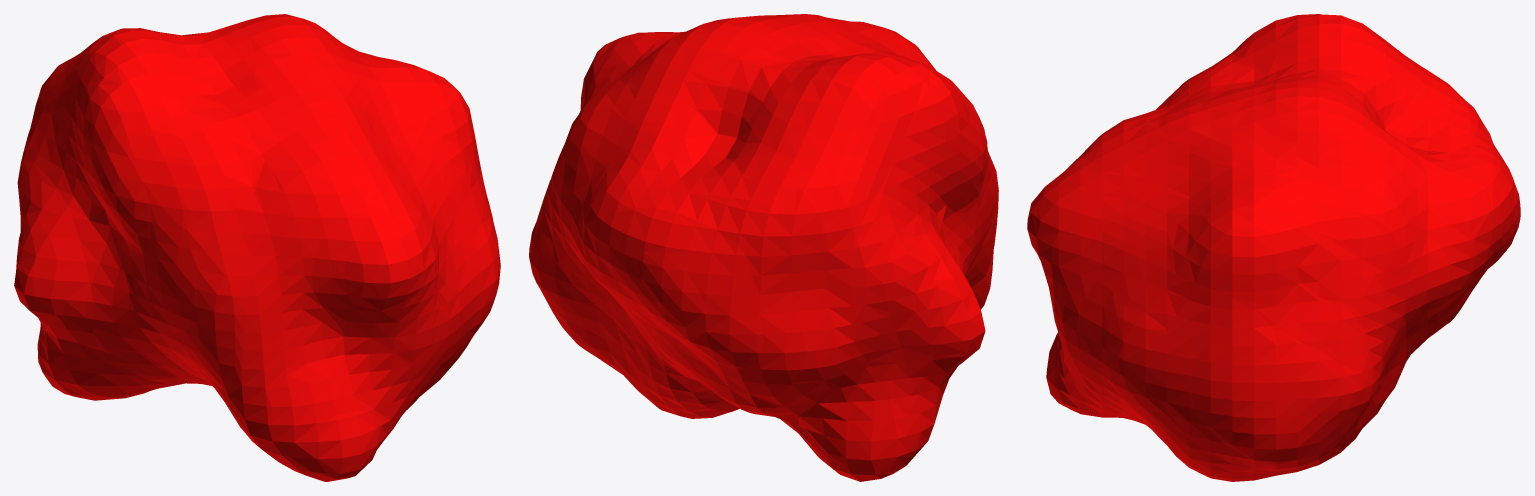
The model's file is fldB_coarse.dae.
The picture shows the model from 3 angles, left to right: view 1: azimuth 30°, elevation 25°; view 2: azimuth 150°, elevation 25°; view 3: azimuth 270°, elevation 25°; orthographic projection. The views are drawn at different scales.
Visible parts, largest first — view 1: fldB; view 2: fldB; view 3: fldB.
Part boxes in pixels (x1,y1,x2,y2): fldB: (14,14,500,481); fldB: (529,14,998,481); fldB: (1027,14,1520,481).
Bounding box in the file's own units: 44.3 × 38.08 × 46.31.
